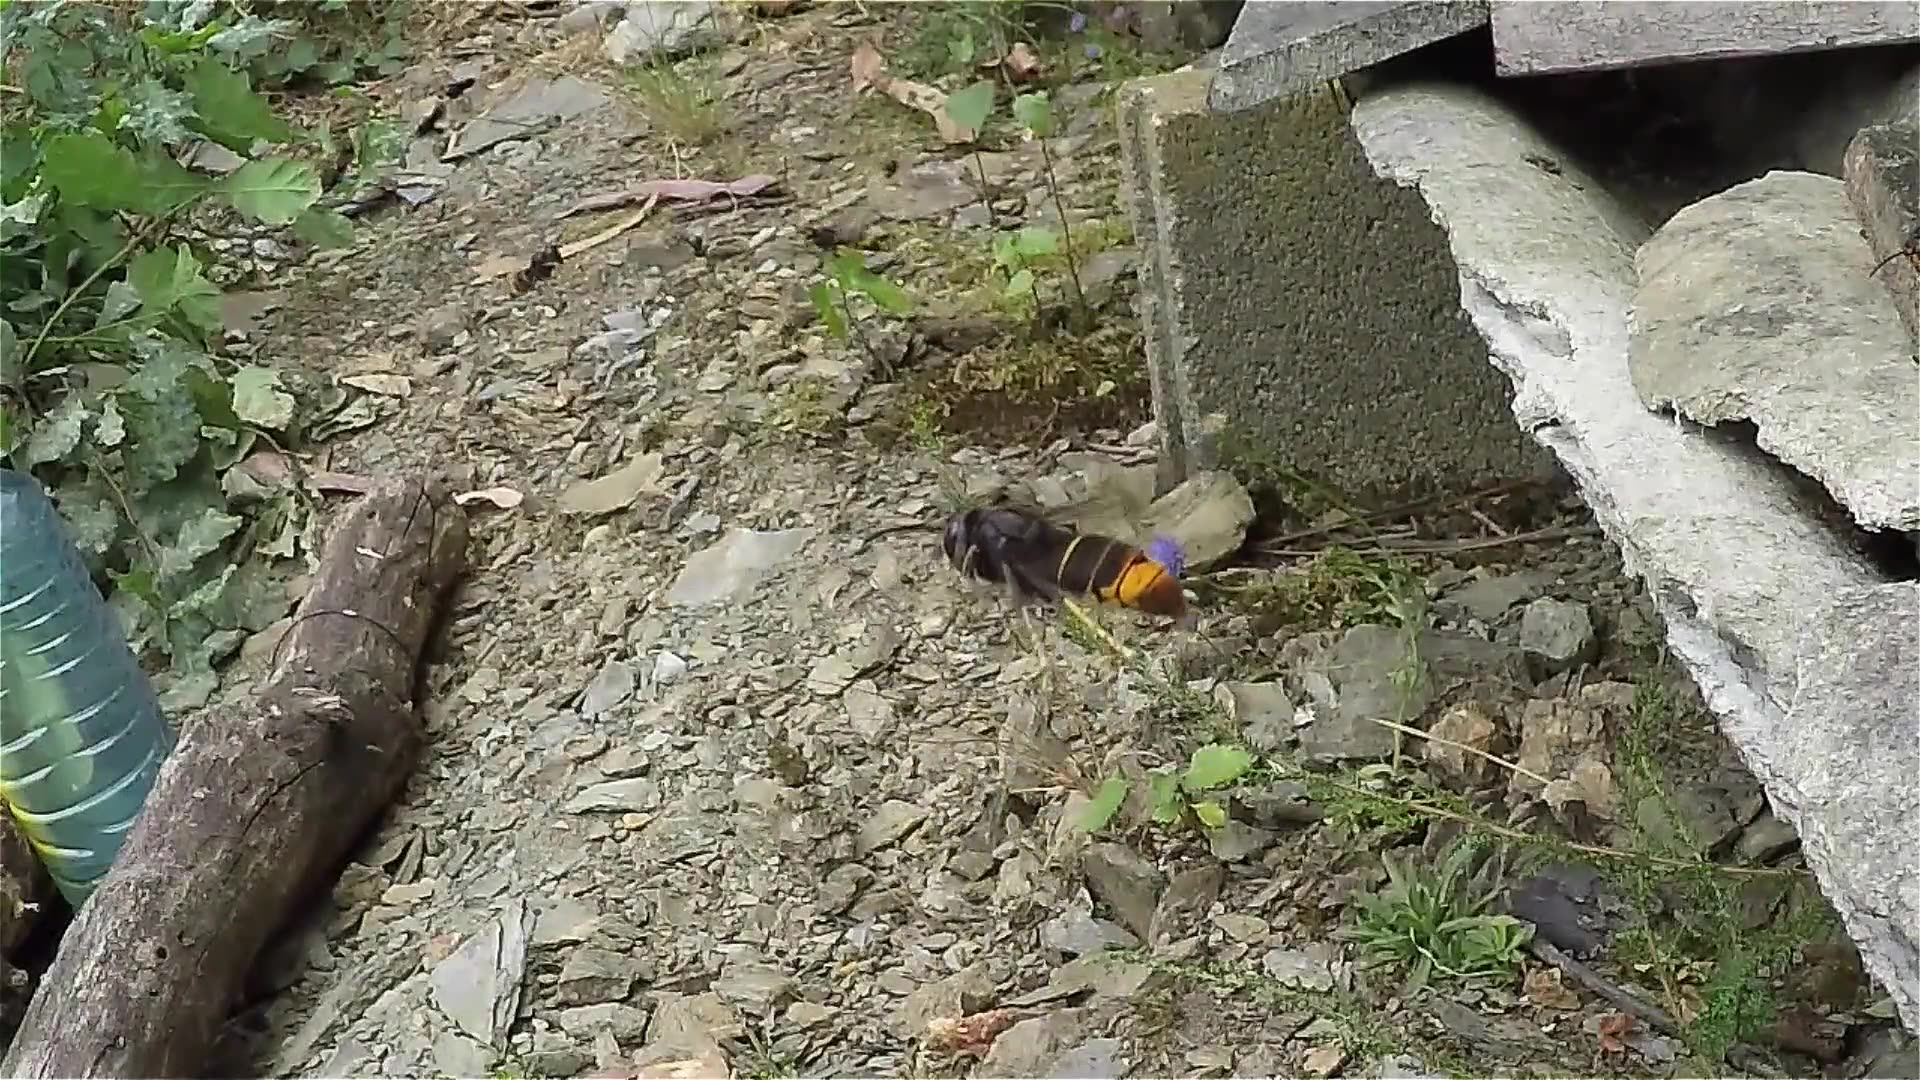hornet: (922, 479, 1192, 634), (502, 240, 567, 302)
